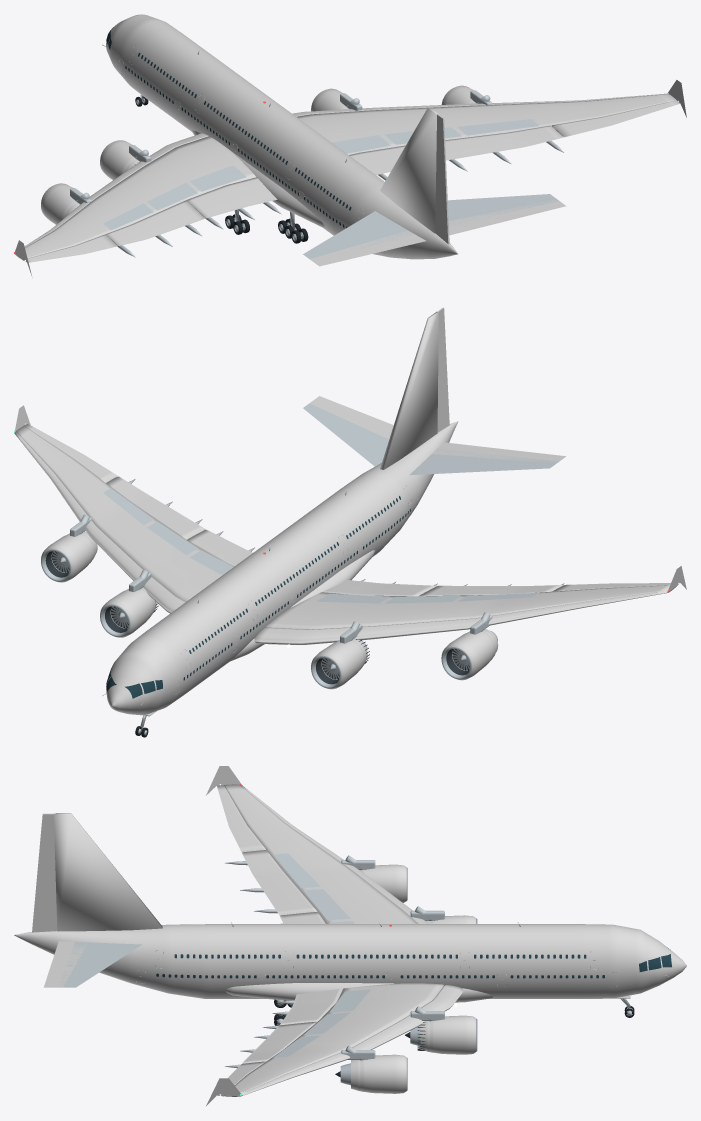
The model's file is skyline-380-uv1.glb.
The picture shows the model from 3 angles, top to bottom: view 1: azimuth 30°, elevation 25°; view 2: azimuth 150°, elevation 25°; view 3: azimuth 270°, elevation 25°; orthographic projection. The views are drawn at different scales.
Visible parts, largest first — view 1: Double deck pressure shell, Swept main wing R, Swept main wing L, Vertical stabilizer, Slotted flap R.001, Horizontal stabilizer L, Slotted flap L, Horizontal stabilizer R, Slotted flap L.001, Rudder trailing surface, Elevator surface L, Elevator surface R (+15 smaller); view 2: Double deck pressure shell, Swept main wing R, Swept main wing L, Vertical stabilizer, Leading edge slat L, Leading edge slat R, Horizontal stabilizer L, Horizontal stabilizer R, Slotted flap R.001, Elevator surface L, Slotted flap L, Nacelle outer 1 (+9 smaller); view 3: Double deck pressure shell, Vertical stabilizer, Swept main wing L, Swept main wing R, Leading edge slat R, Rudder trailing surface, Slotted flap L.001, Horizontal stabilizer R, Wing body fairing, Nacelle outer 4, Nacelle outer 3, Slotted flap R (+8 smaller).
Part boxes in pixels (<box>): Double deck pressure shell: <box>106,14,457,259</box>; Swept main wing R: <box>296,94,676,154</box>; Swept main wing L: <box>16,136,255,260</box>; Vertical stabilizer: <box>380,107,437,233</box>; Slotted flap R.001: <box>445,125,563,160</box>; Horizontal stabilizer L: <box>303,211,412,258</box>; Slotted flap L: <box>186,177,277,218</box>; Horizontal stabilizer R: <box>447,194,558,227</box>; Slotted flap L.001: <box>106,200,205,245</box>; Rudder trailing surface: <box>435,114,449,244</box>; Elevator surface L: <box>310,231,425,266</box>; Elevator surface R: <box>448,199,566,235</box>; Double deck pressure shell: <box>106,421,458,715</box>; Swept main wing R: <box>16,426,233,601</box>; Swept main wing L: <box>265,585,676,629</box>; Vertical stabilizer: <box>380,311,438,469</box>; Leading edge slat L: <box>254,590,668,644</box>; Leading edge slat R: <box>14,431,185,613</box>; Horizontal stabilizer L: <box>409,449,559,475</box>; Horizontal stabilizer R: <box>303,403,390,466</box>; Slotted flap R.001: <box>106,476,205,539</box>; Elevator surface L: <box>432,442,565,463</box>; Slotted flap L: <box>322,580,436,596</box>; Nacelle outer 1: <box>441,630,496,680</box>; Double deck pressure shell: <box>14,924,686,998</box>; Vertical stabilizer: <box>53,813,162,931</box>; Swept main wing L: <box>224,784,417,923</box>; Swept main wing R: <box>224,983,443,1096</box>; Leading edge slat R: <box>239,984,463,1096</box>; Rudder trailing surface: <box>32,813,57,932</box>; Slotted flap L.001: <box>241,850,317,915</box>; Horizontal stabilizer R: <box>58,942,142,987</box>; Wing body fairing: <box>225,983,492,1002</box>; Nacelle outer 4: <box>358,1054,406,1093</box>; Nacelle outer 3: <box>427,1015,475,1054</box>; Slotted flap R: <box>280,988,342,1025</box>.
Bounding box in the file's own units: 79.8 × 24.1 × 72.7.
